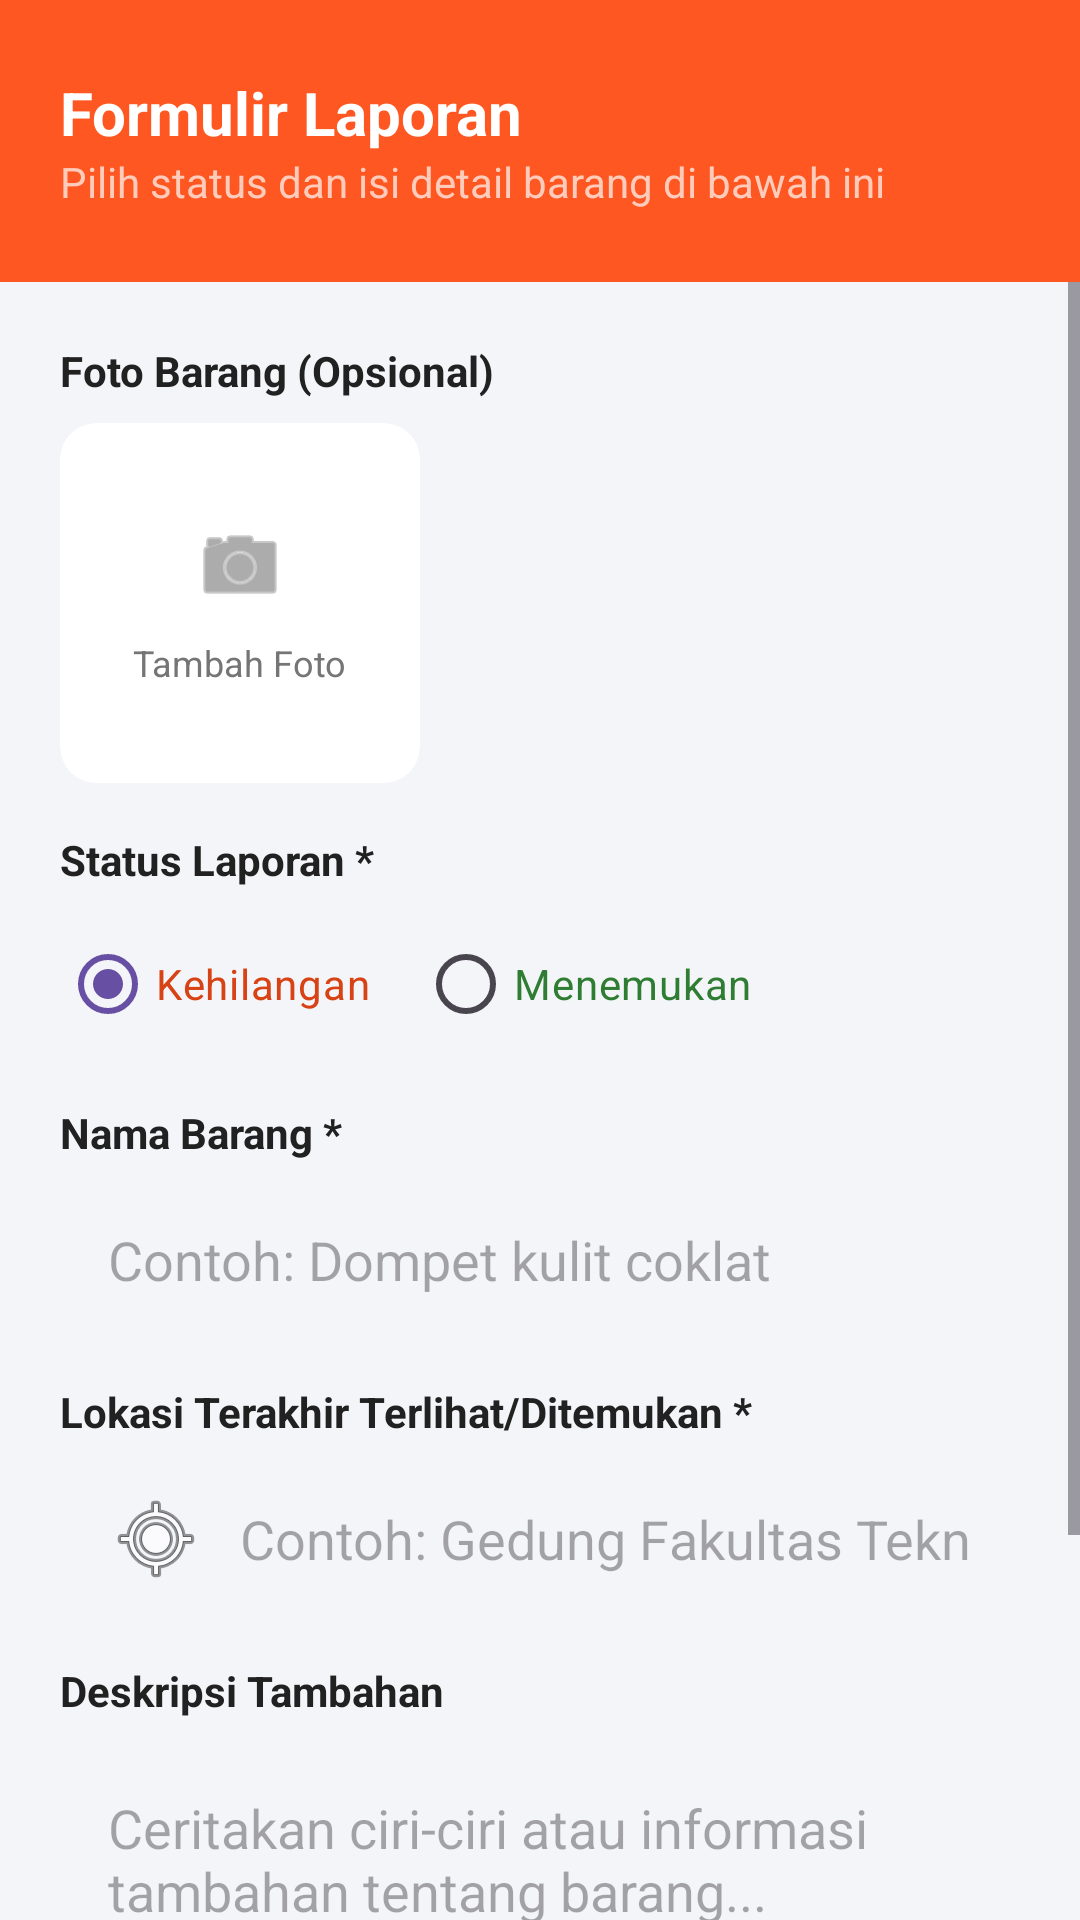

Icon click points for this 1080*1920 phone screenshot, format (x=x, y=y):
camera: (x=240, y=564)
